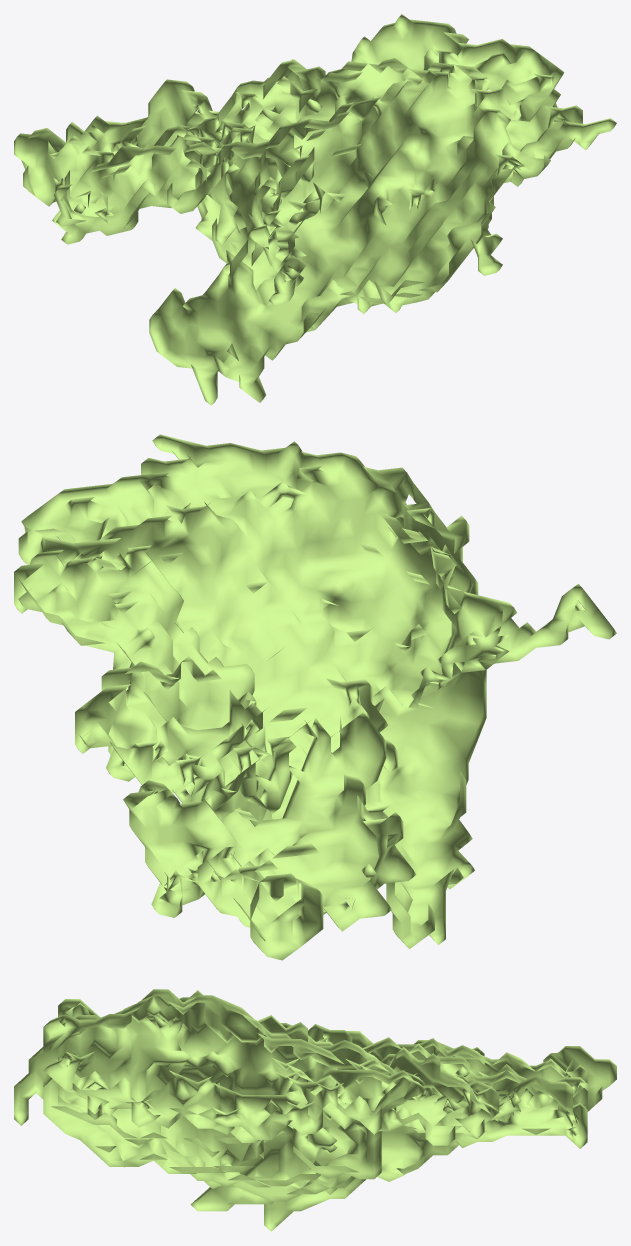
File: osteocyte_115.glb
3 views of the same model, one above another, from view 1: azimuth 30°, elevation 25°; view 2: azimuth 150°, elevation 25°; view 3: azimuth 270°, elevation 25° (orthographic). The views are drawn at different scales.
Parts seen in each view (by area): view 1: osteocyte_115; view 2: osteocyte_115; view 3: osteocyte_115.
Part boxes in pixels (bbox=[...]): osteocyte_115: bbox=[14, 14, 616, 405]; osteocyte_115: bbox=[14, 434, 616, 960]; osteocyte_115: bbox=[14, 989, 616, 1231].
Bounding box in the file's own units: 14.31 × 9.39 × 18.33.
